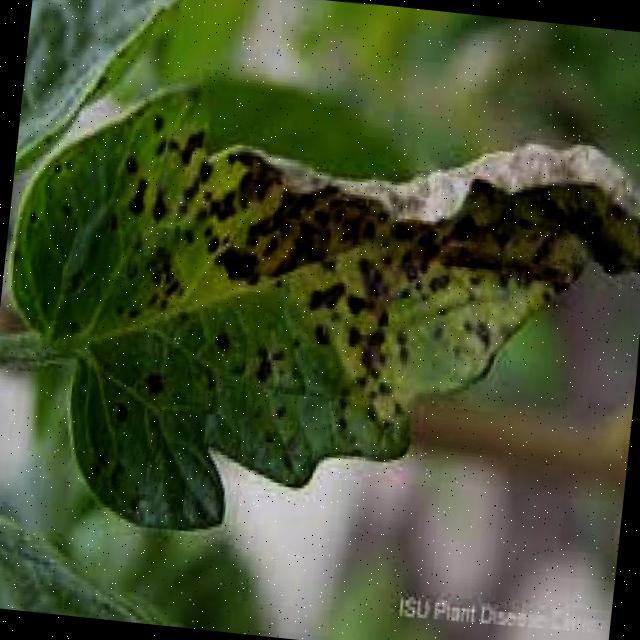Septoria_Blight: (50, 97, 587, 411)
